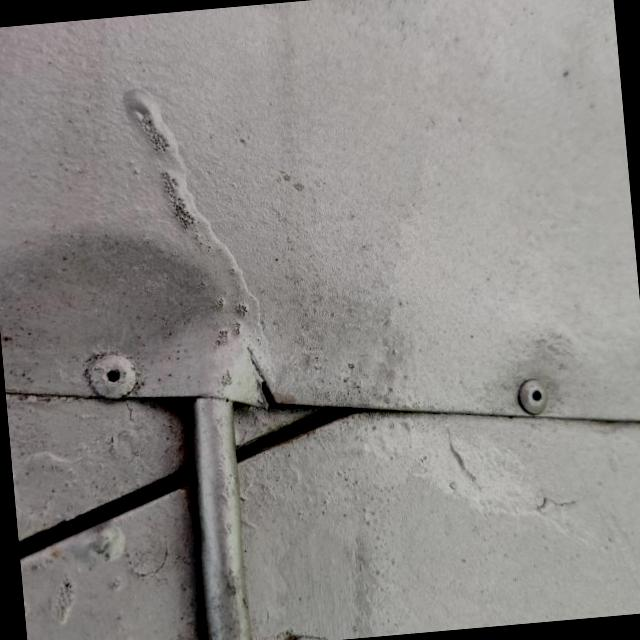crack: (238, 348, 302, 425)
